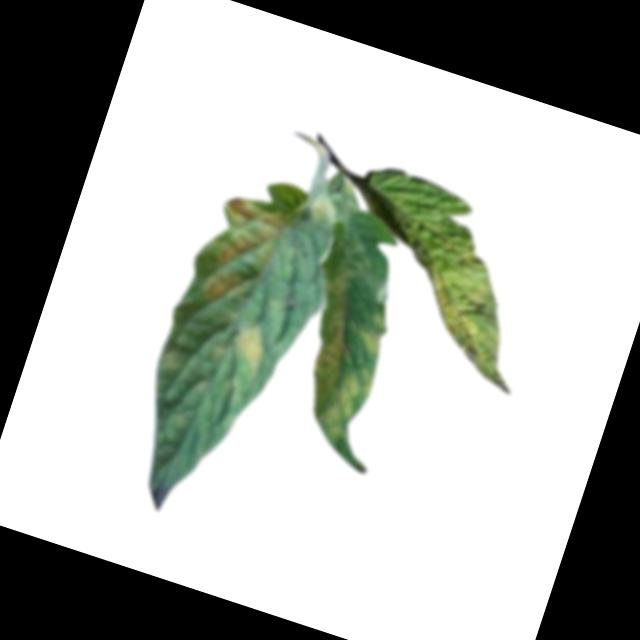Leaf_Mold: (389, 227, 553, 394), (280, 269, 402, 454), (186, 191, 293, 322), (223, 318, 274, 375)
